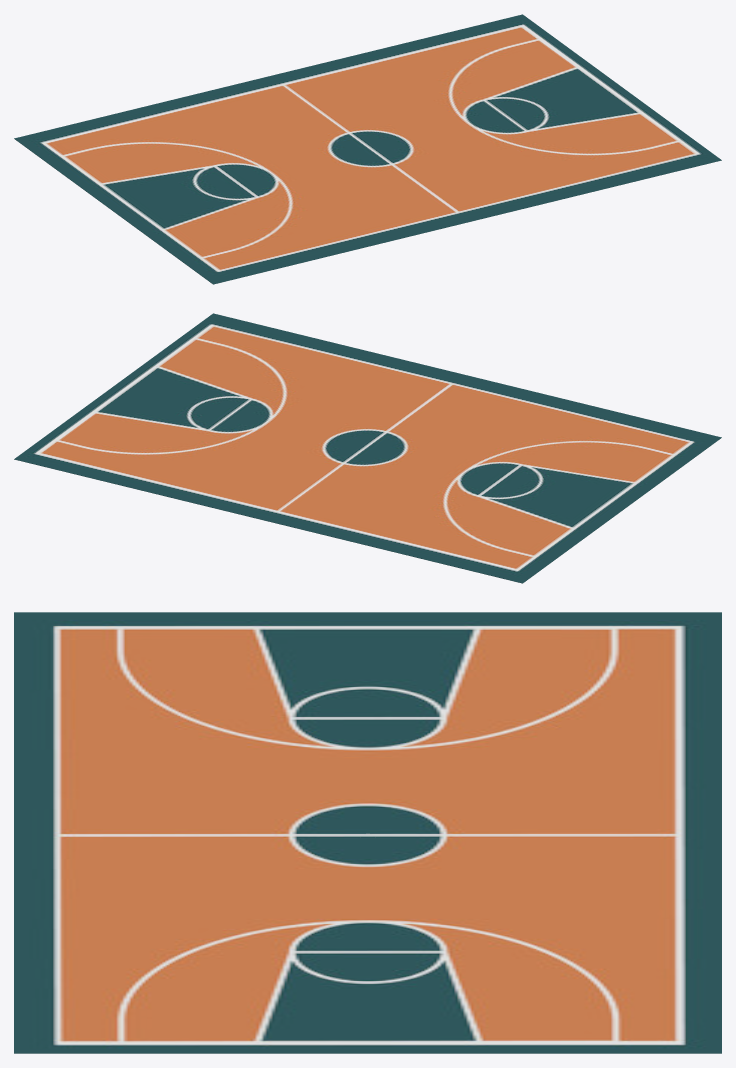
File: court.fbx
3 renders of one model, top to bottom at view 1: azimuth 30°, elevation 25°; view 2: azimuth 150°, elevation 25°; view 3: azimuth 270°, elevation 25°, orthographic. The views are drawn at different scales.
Parts seen in each view (by area): view 1: Court; view 2: Court; view 3: Court.
Part boxes in pixels (bbox=[...]): Court: bbox=[14, 14, 721, 284]; Court: bbox=[14, 313, 721, 583]; Court: bbox=[14, 612, 721, 1053].
Bounding box in the file's own units: 440 × 0.2079 × 299.
